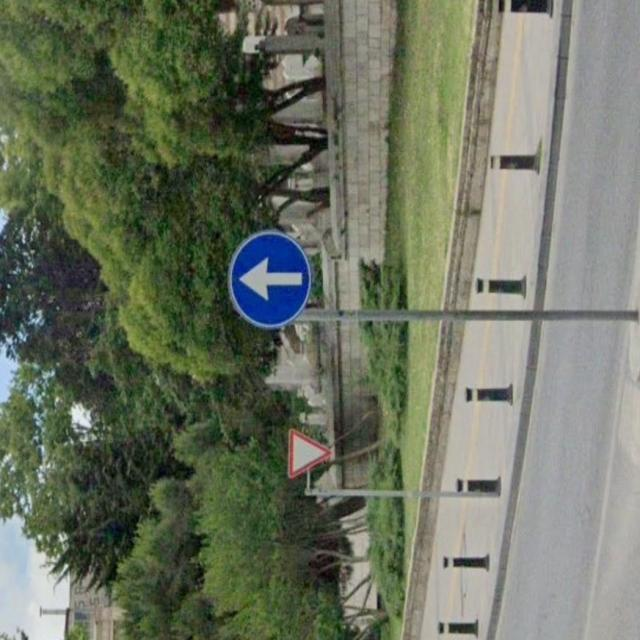Turn Left: (225, 230, 315, 328)
